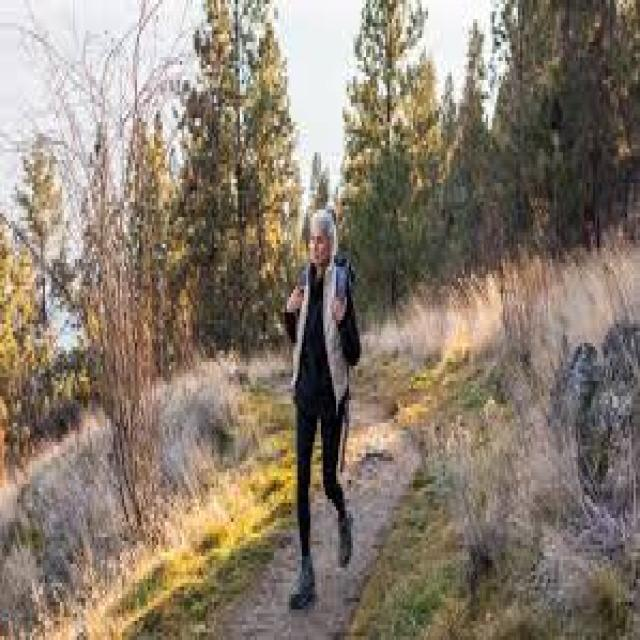nonfall: (264, 186, 389, 610)
